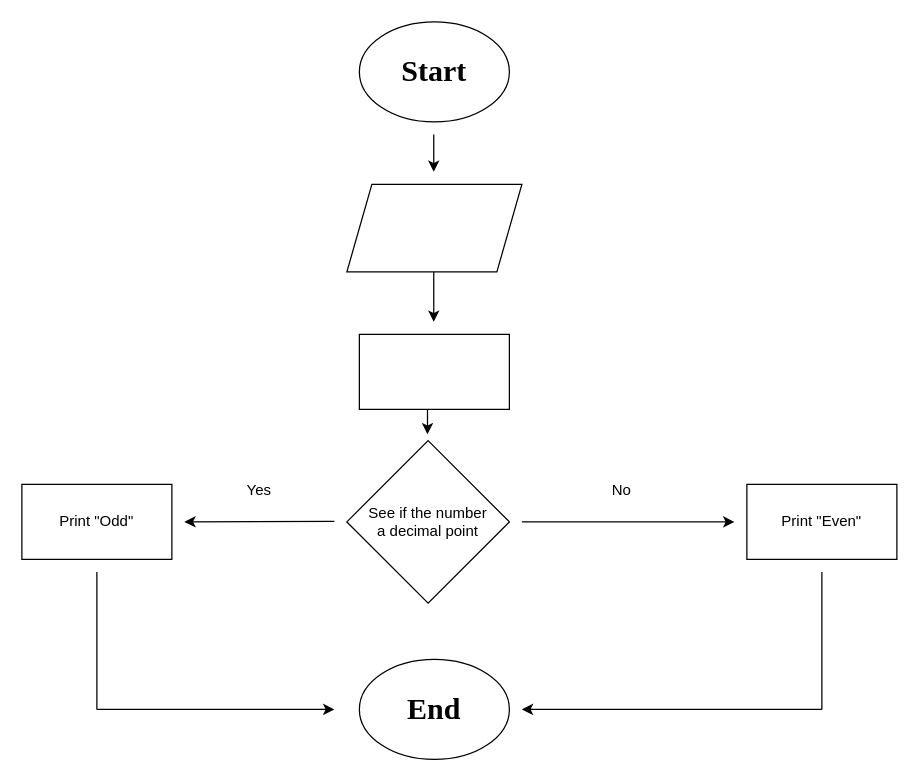
This 919x781 diagram has some shape labels left out. Each missing label, with the centre of its shape:
Ask for the number: the point at 434,227
Divide the number by 2: the point at 433,371
